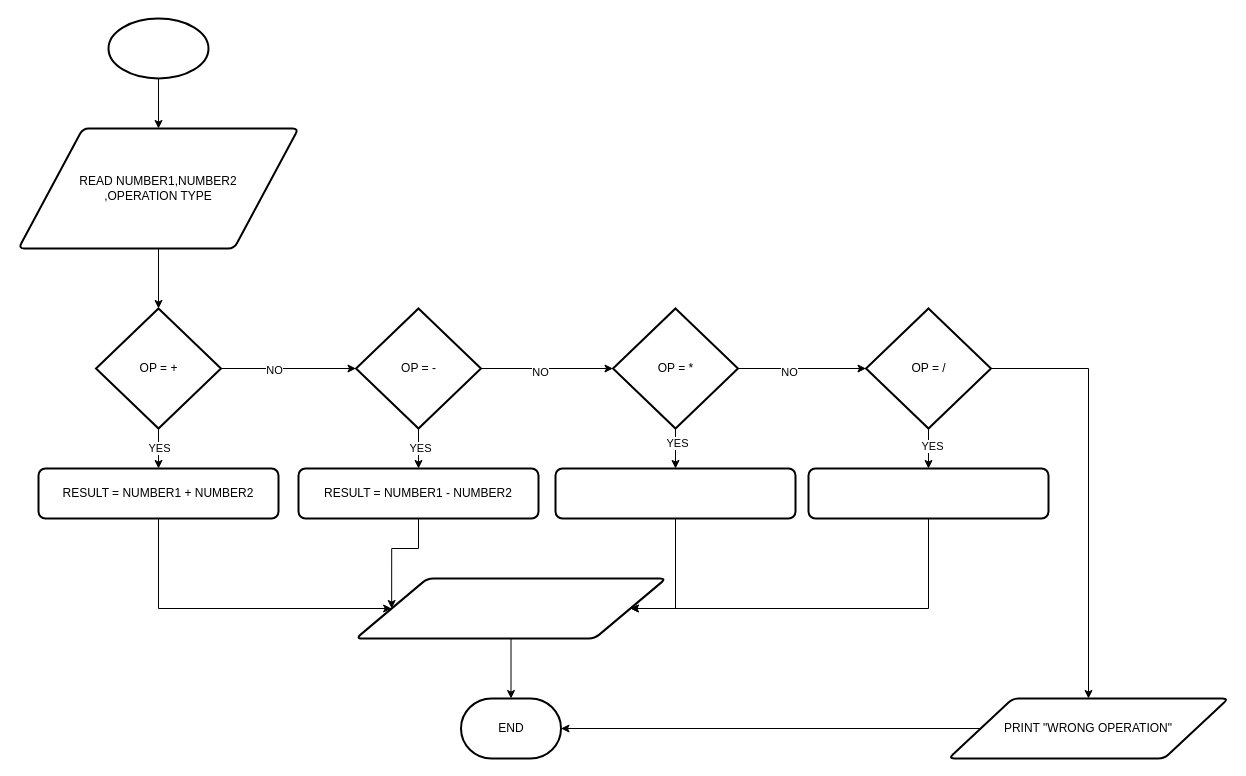
Some shapes in this 1246 by 776 pixel diagram are drawn without their labels. Each missing label, with the centre of its shape:
"PRINT RESULT" belongs at pixel 510 608.
"RESULT = NUMBER1 * NUMBER2" belongs at pixel 675 493.
"RESULT = NUMBER1 / NUMBER2" belongs at pixel 928 493.
"START" belongs at pixel 158 48.
